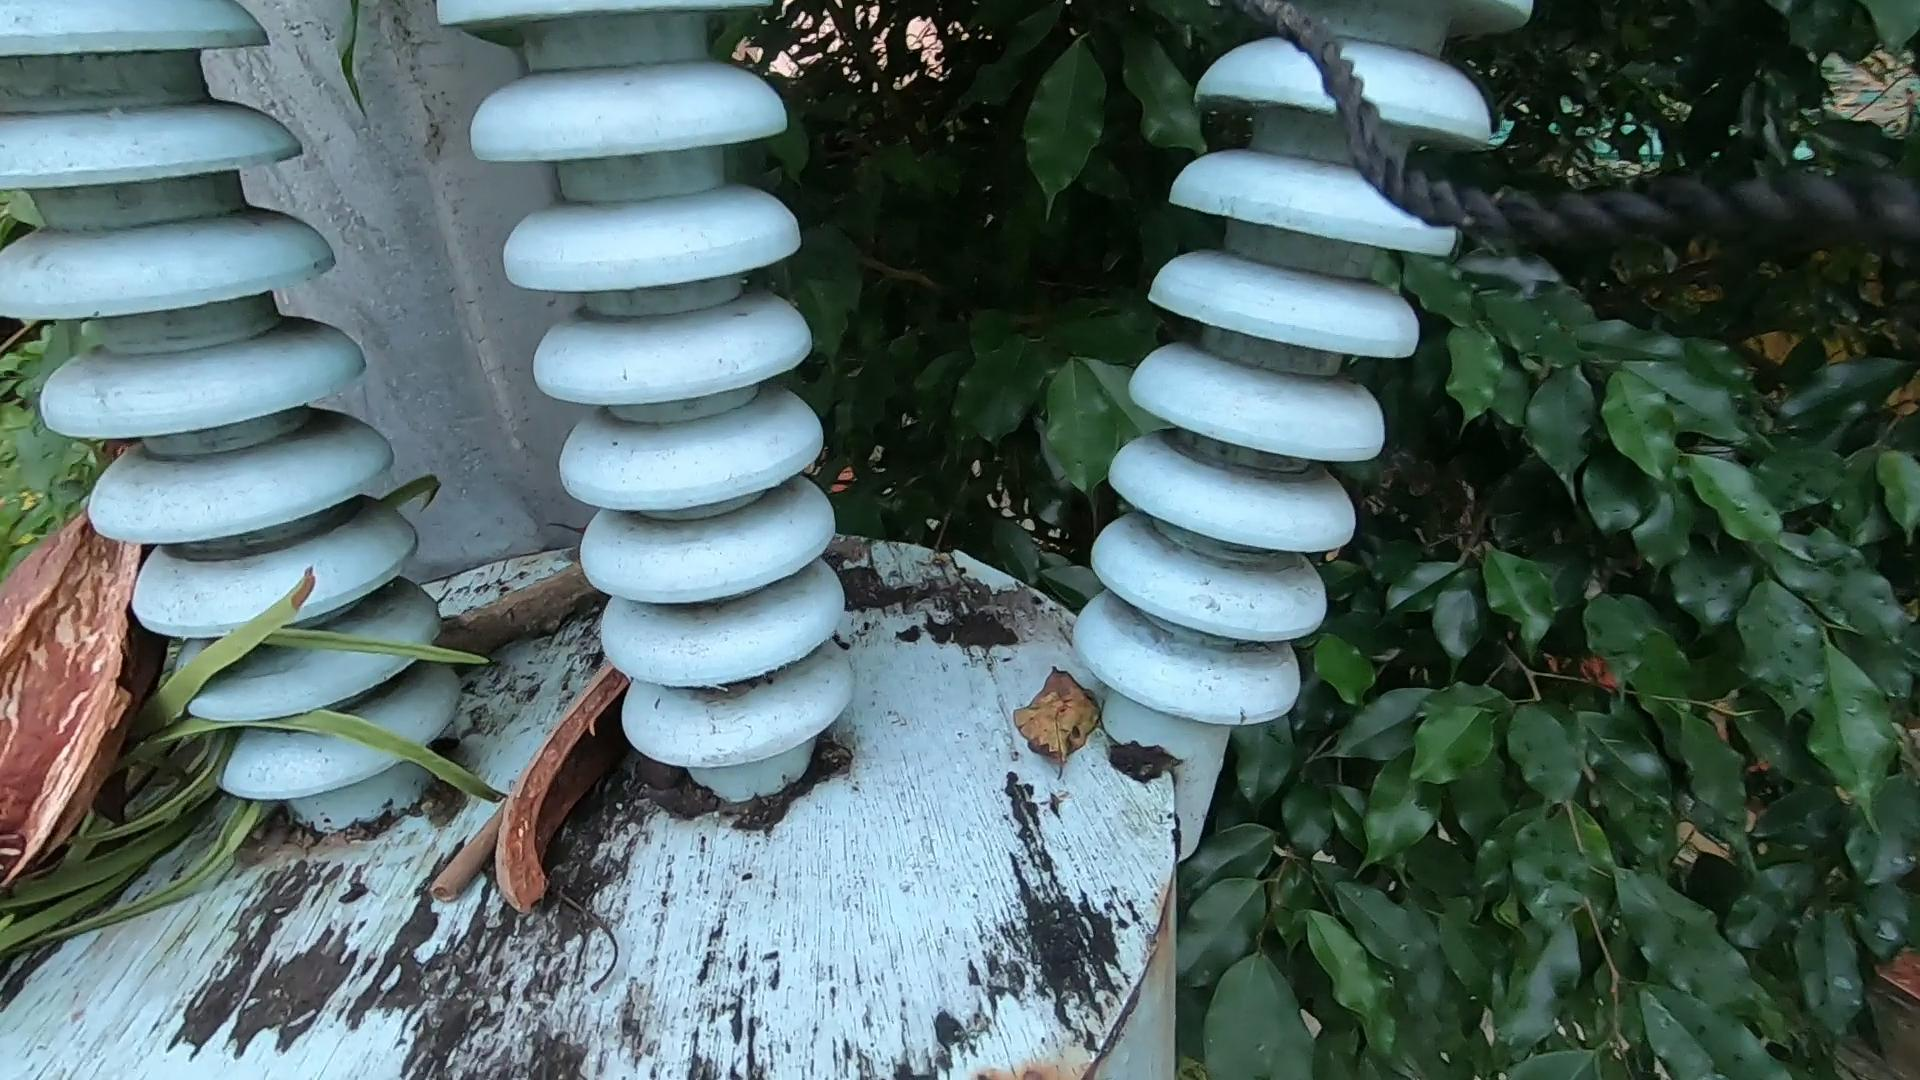branch with leaves: (12, 496, 691, 1046)
leaf: (1011, 640, 1124, 794)
mahogany fruit: (8, 496, 166, 930), (504, 659, 636, 1001)
tree branch: (389, 728, 720, 959)
